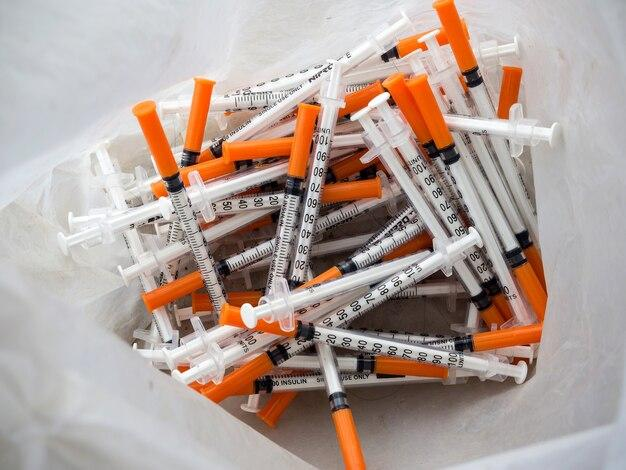Syringe: (409, 75, 531, 323), (133, 101, 226, 315), (317, 228, 479, 325), (352, 94, 446, 247), (370, 93, 466, 236), (384, 74, 465, 233), (307, 325, 526, 383), (288, 61, 343, 288), (244, 253, 427, 320), (211, 64, 331, 155), (266, 103, 319, 291), (464, 134, 533, 249), (433, 0, 494, 117), (307, 222, 423, 283), (57, 197, 173, 254), (316, 343, 365, 468), (118, 240, 191, 284), (180, 77, 214, 167), (317, 193, 393, 233), (95, 146, 126, 209), (213, 192, 283, 215)
